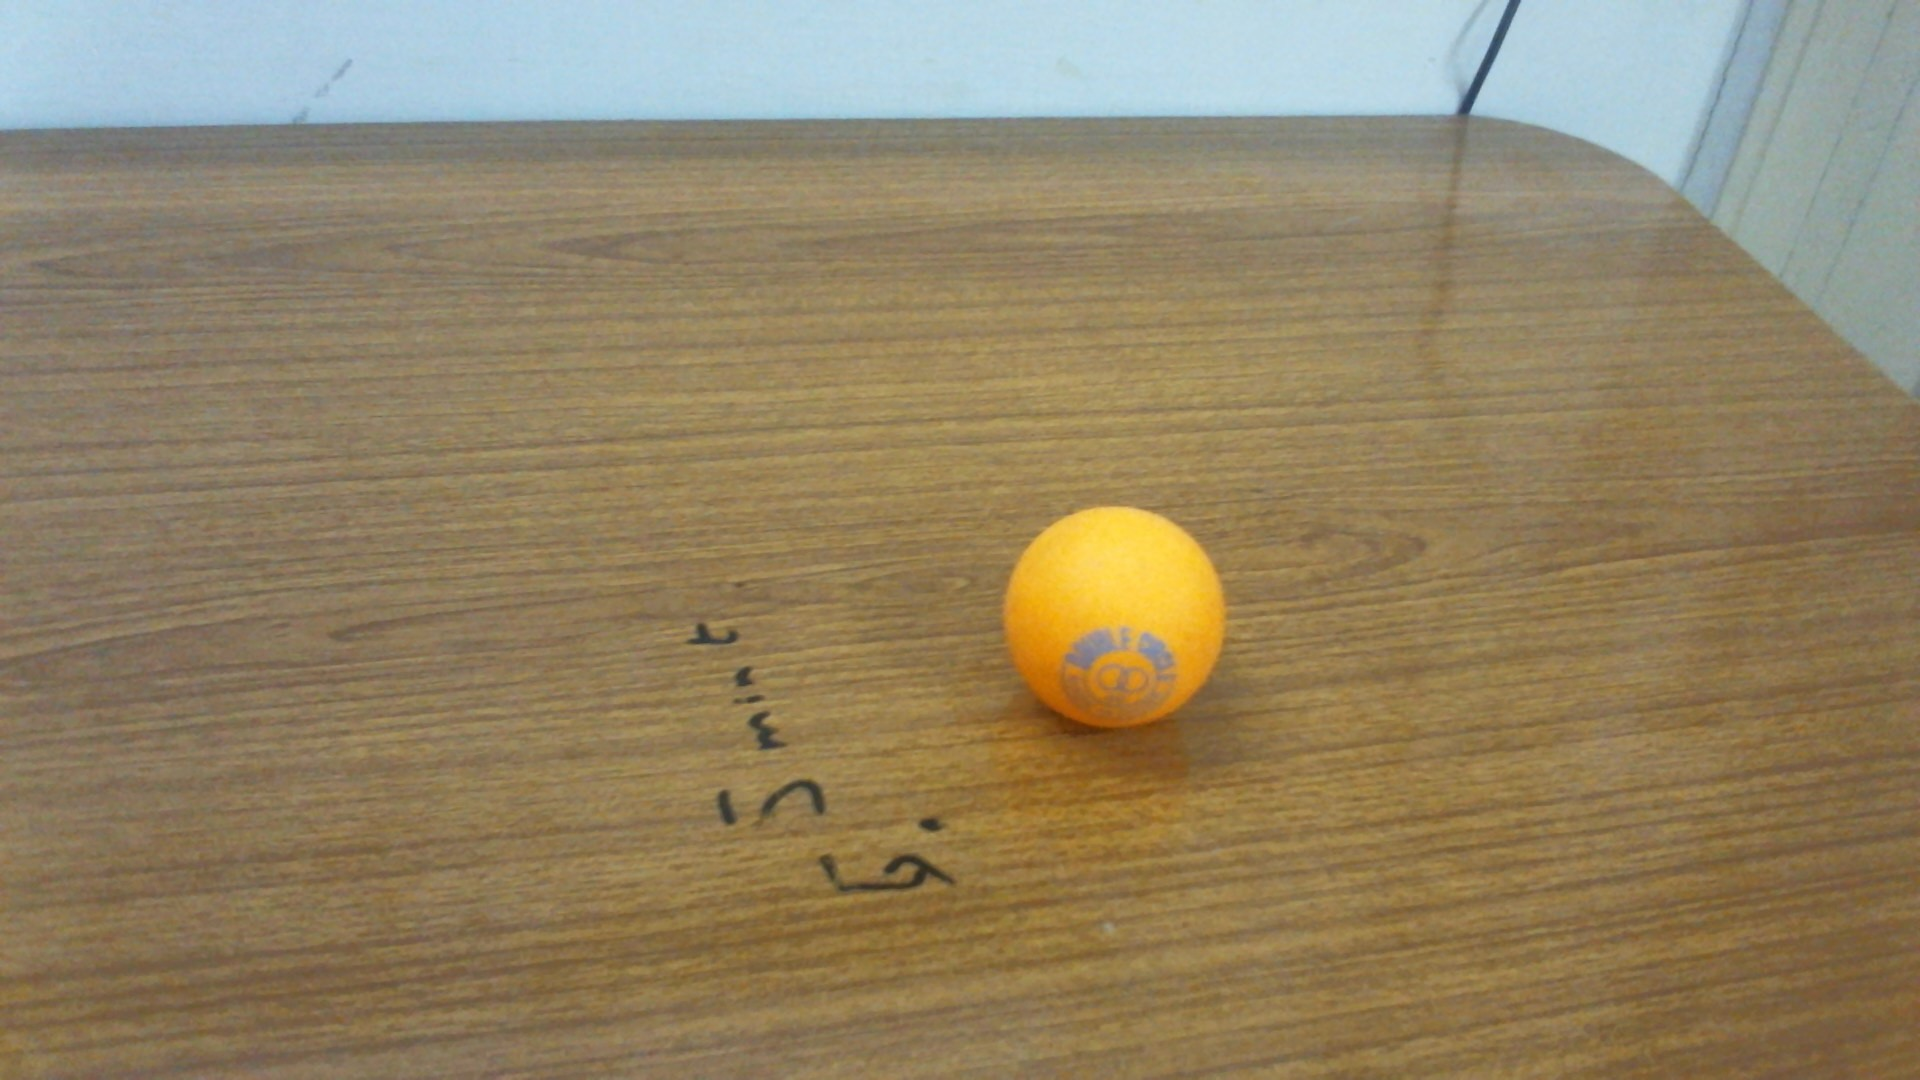ball: (997, 506, 1225, 733)
